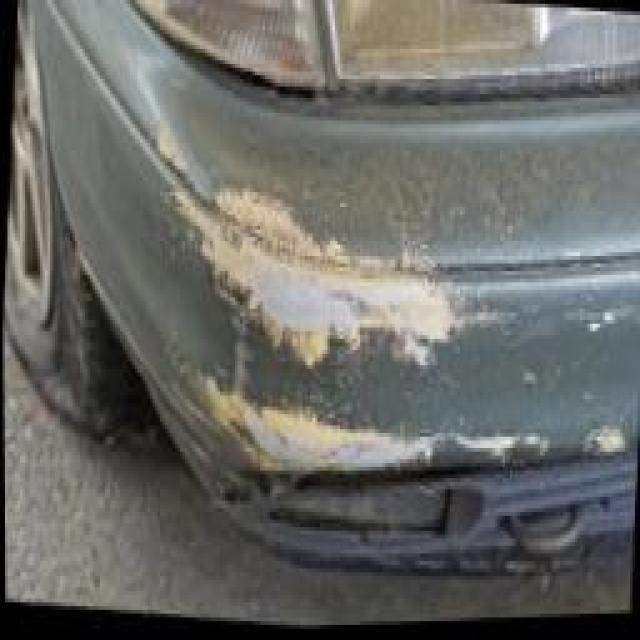Bumper: (108, 83, 639, 591)
